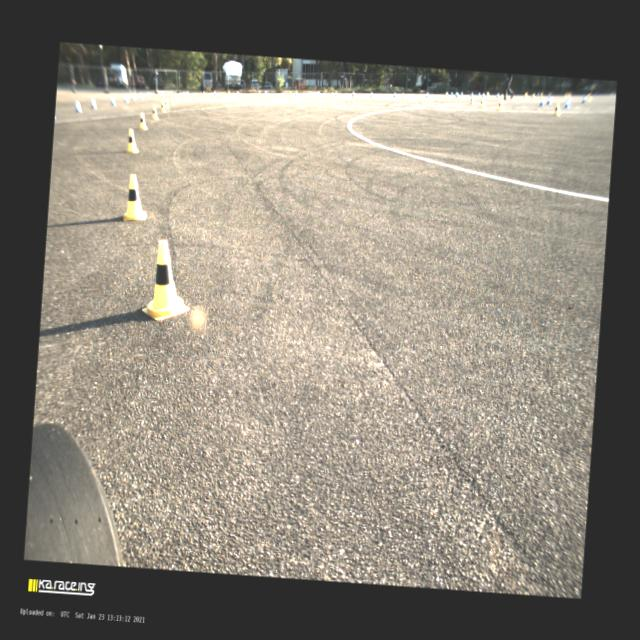blue_cone: (75, 100, 83, 113), (90, 98, 98, 108), (110, 96, 116, 105), (123, 94, 129, 103), (138, 92, 142, 100), (540, 98, 544, 106), (547, 96, 551, 104), (131, 94, 135, 100), (147, 92, 150, 98), (161, 91, 164, 97), (456, 92, 459, 97), (316, 90, 318, 96), (394, 91, 396, 97), (482, 92, 484, 98), (496, 92, 498, 98), (213, 90, 215, 95), (236, 90, 238, 95), (295, 90, 297, 95), (426, 92, 428, 97), (450, 91, 452, 96), (460, 91, 462, 96), (470, 91, 472, 96), (478, 91, 480, 96), (264, 90, 266, 94), (370, 92, 372, 96), (335, 90, 336, 96), (456, 91, 456, 95)
yellow_cone: (141, 238, 194, 322), (122, 174, 149, 222), (125, 128, 140, 153), (139, 112, 148, 130), (552, 103, 560, 115), (152, 105, 158, 119), (160, 101, 167, 112), (479, 98, 485, 108), (498, 100, 503, 111), (164, 99, 169, 109), (170, 96, 175, 105), (469, 96, 474, 104), (500, 94, 504, 102), (174, 96, 178, 102), (177, 94, 181, 100), (186, 90, 189, 98), (183, 92, 186, 99), (444, 91, 447, 98), (202, 91, 205, 97), (532, 94, 534, 102), (227, 91, 230, 96), (331, 92, 334, 97), (524, 92, 526, 99), (352, 92, 354, 98), (402, 92, 404, 98), (258, 91, 260, 96), (288, 91, 290, 96), (309, 91, 311, 96)
